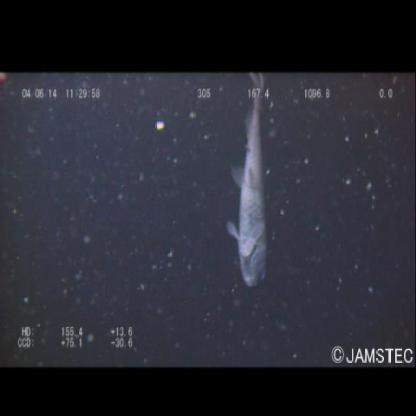Bio: (221, 70, 282, 292)
